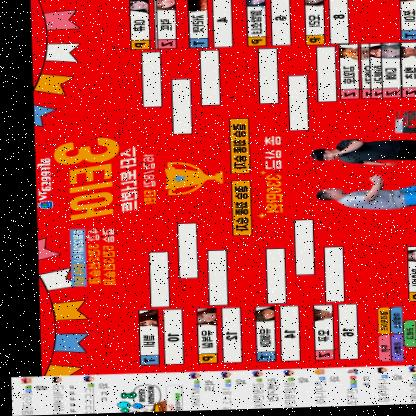donation: (113, 383, 181, 414)
streamer: (314, 174, 416, 212), (308, 138, 416, 169)
